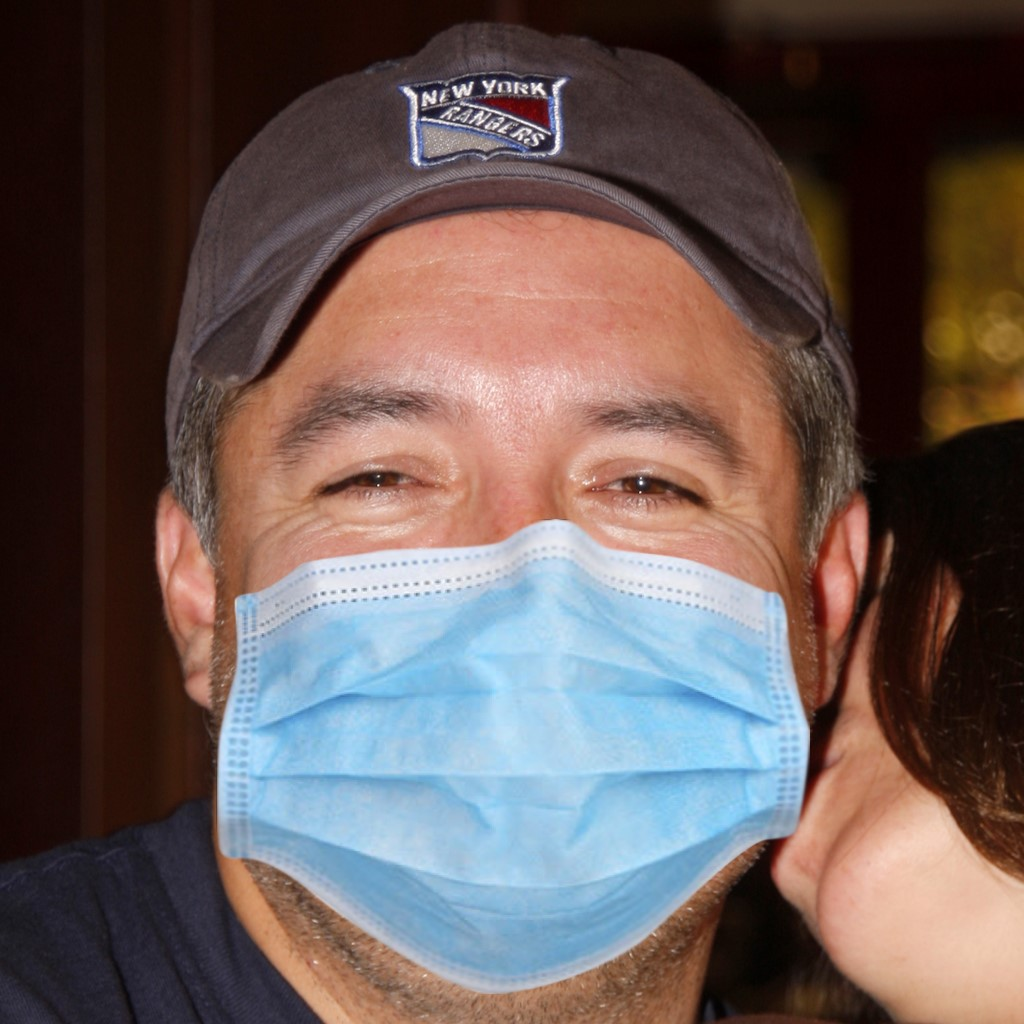con_mascara: (203, 208, 832, 967)
